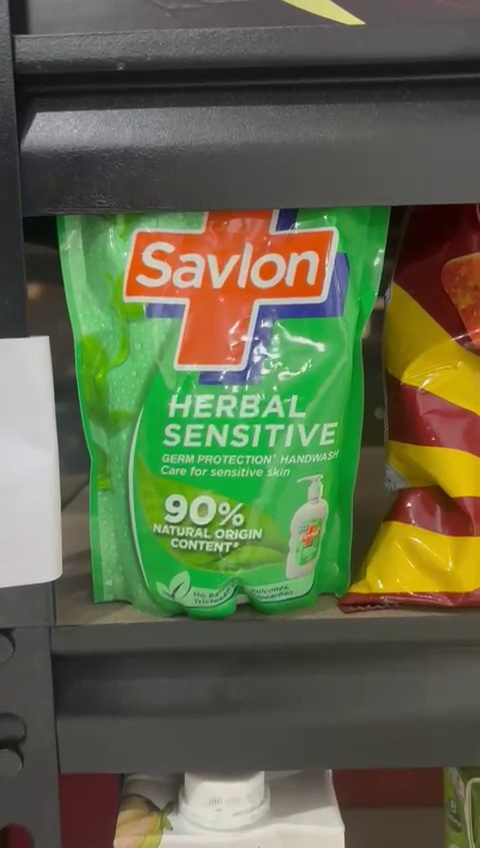Savlon Herbal: (55, 209, 388, 621)
